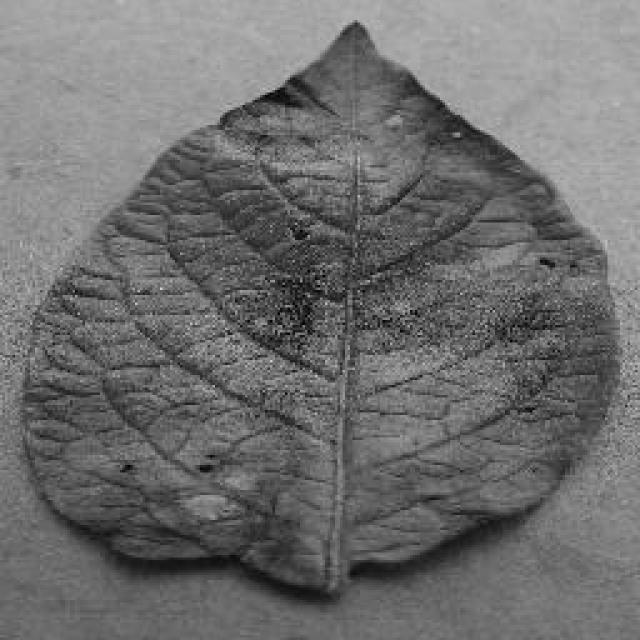Potato: (18, 18, 622, 598)
